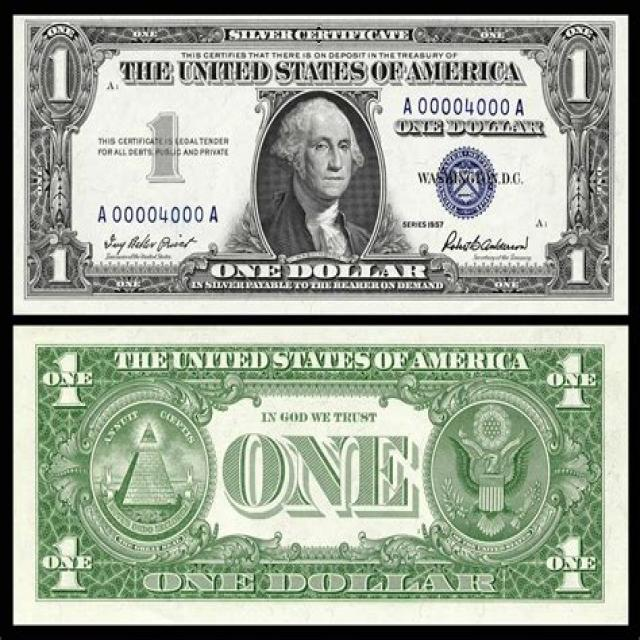One: (14, 326, 628, 623), (14, 17, 627, 314)
